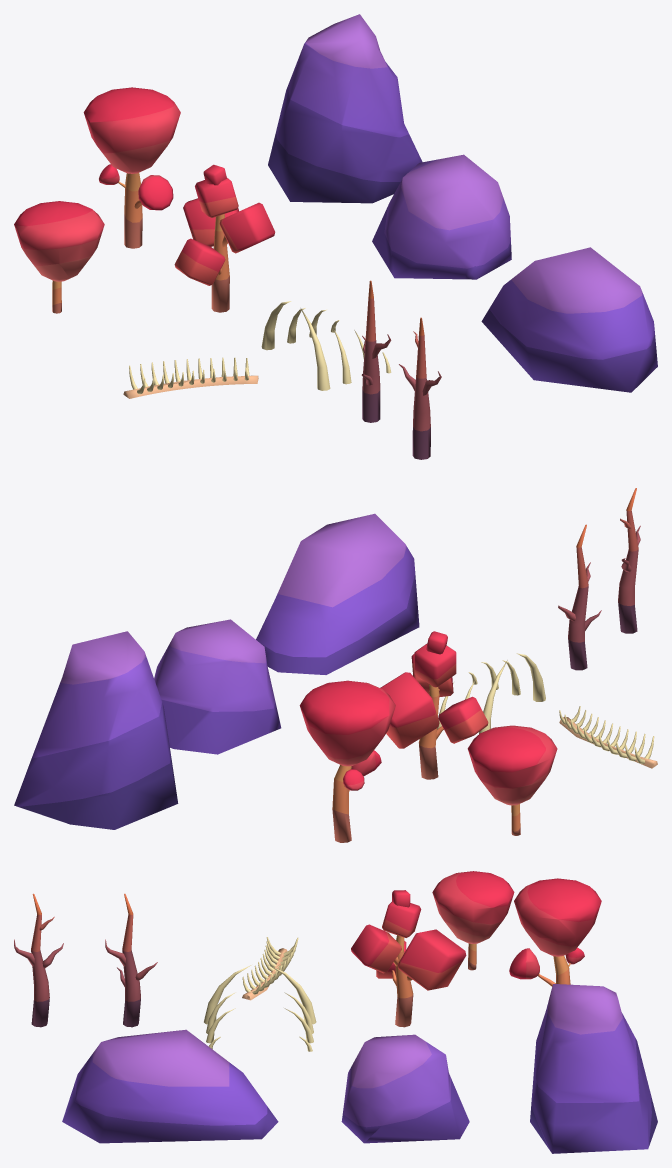
3 views of the same model, one above another, from view 1: azimuth 30°, elevation 25°; view 2: azimuth 150°, elevation 25°; view 3: azimuth 270°, elevation 25° (orthographic). The views are drawn at different scales.
Visible parts, largest first — view 1: Rock_3, Rock, Rock_2, Tree_leafs_2, Tree_leafs_3, Tree_leafs, Bones, Tree_naked, Bones_2, Tree_naked_2; view 2: Rock_3, Rock, Rock_2, Tree_leafs_2, Tree_leafs_3, Tree_leafs, Tree_naked_2, Tree_naked, Bones, Bones_2; view 3: Rock, Rock_3, Rock_2, Tree_leafs_3, Tree_leafs_2, Tree_leafs, Tree_naked, Tree_naked_2, Bones_2, Bones.
Part boxes in pixels (x1,y1,x2,y2): Rock_3: (268, 14, 422, 203); Rock: (481, 247, 657, 392); Rock_2: (372, 154, 511, 279); Tree_leafs_2: (83, 87, 180, 248); Tree_leafs_3: (174, 164, 275, 312); Tree_leafs: (14, 201, 104, 313); Bones: (123, 357, 258, 398); Tree_naked: (399, 317, 441, 459); Bones_2: (261, 301, 391, 390); Tree_naked_2: (361, 280, 391, 422); Rock_3: (14, 631, 178, 829); Rock: (256, 513, 419, 674); Rock_2: (154, 619, 281, 754); Tree_leafs_2: (299, 680, 395, 842); Tree_leafs_3: (380, 631, 488, 779); Tree_leafs: (467, 725, 557, 835); Tree_naked_2: (558, 524, 601, 670); Tree_naked: (618, 488, 640, 633); Bones: (559, 706, 657, 768); Bones_2: (437, 653, 545, 733); Rock: (62, 1029, 278, 1143); Rock_3: (530, 984, 657, 1153); Rock_2: (341, 1034, 469, 1143); Tree_leafs_3: (351, 890, 466, 1027); Tree_leafs_2: (509, 878, 601, 986); Tree_leafs: (432, 871, 514, 970); Tree_naked: (14, 893, 63, 1027); Tree_naked_2: (105, 893, 157, 1027); Bones_2: (204, 965, 316, 1051); Bones: (242, 937, 298, 1000).
Size of the model in its own units: 814 by 264 by 1106.
1 material, 1 textured.
